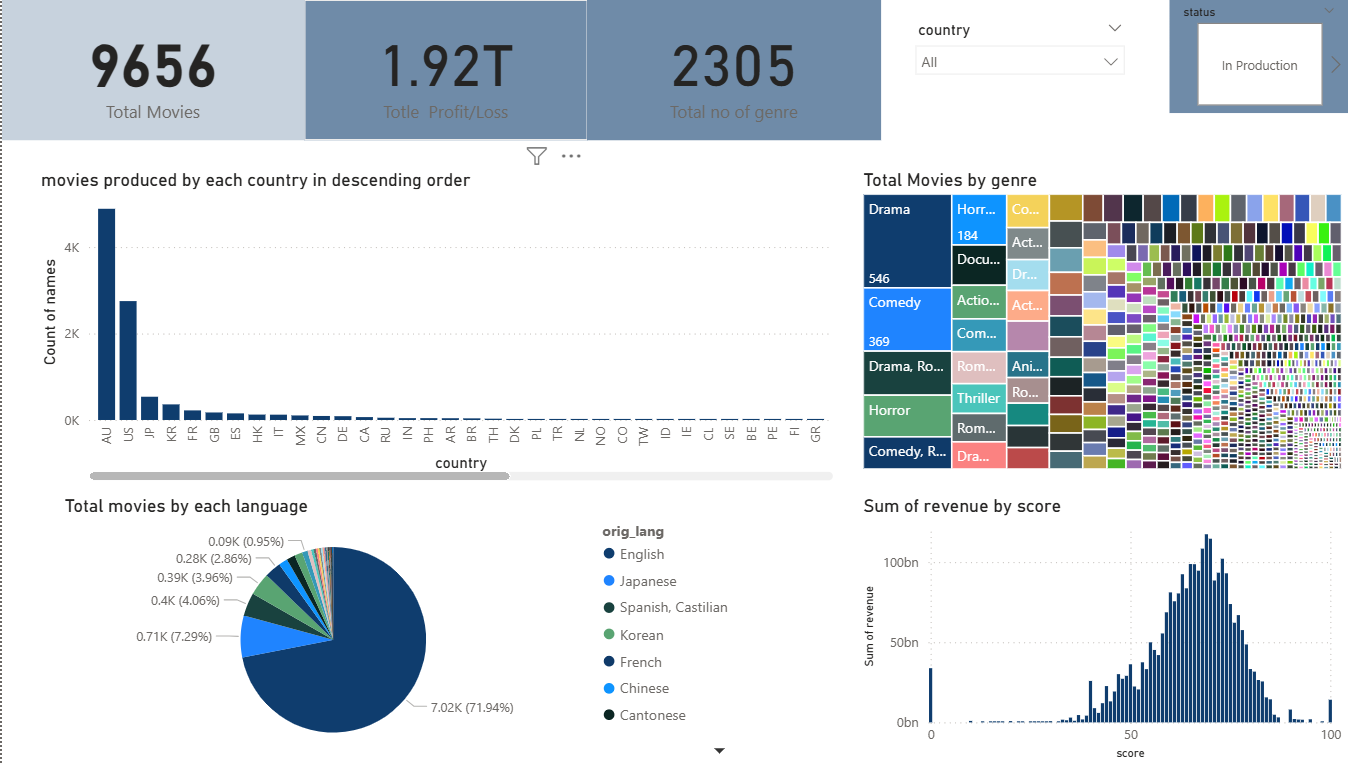

Layout of this report page (visuals, bound fields, positions):
{"tool":"powerbi","page":{"name":"Page 1","canvas":[1280,720],"ordinal":0},"visuals":[{"type":"card","fields":{"Values":["Count(IMDB.names)"]},"box":[0,0,284.6,132.3],"z":0},{"type":"card","fields":{"Values":["Sum(IMDB.Sum of Profit/Loss)"]},"box":[284.6,0,266.2,132.3],"z":1000},{"type":"card","fields":{"Values":["Count(IMDB.genre)"]},"box":[550.8,0,276.9,132.3],"z":2000},{"type":"columnChart","title":"movies produced by each country in descending order","fields":{"Category":["IMDB.country"],"Y":["CountNonNull(IMDB.names)"]},"box":[32.3,158.5,755.4,298.5],"z":3000},{"type":"treemap","title":"Total Movies by genre","fields":{"Group":["IMDB.genre"],"Values":["Count(IMDB.names)"]},"box":[806.2,158.5,460,287.7],"z":4000},{"type":"pieChart","title":"Total movies by each language","fields":{"Y":["Count(IMDB.names)"],"Category":["IMDB.orig_lang"]},"box":[53.8,466.2,733.8,253.8],"z":5000},{"type":"clusteredColumnChart","fields":{"Y":["Sum(IMDB.revenue)"],"Category":["IMDB.score"]},"box":[806,466,460,254],"z":6000},{"type":"slicer","fields":{"Values":["IMDB.country"]},"box":[849.2,13.8,216.9,103.1],"z":7000},{"type":"slicer","fields":{"Values":["IMDB.status"]},"box":[1098.5,0,167.7,106.2],"z":8000}]}

Visuals, with their boxes in screenshot pixels (x1, y1, x2, y2), scaled from the page's 1280x720 canvas onto the 1361x763 screenshot:
card - Count(IMDB.names): BBox(0, 0, 303, 140)
card - Sum(IMDB.Sum of Profit/Loss): BBox(303, 0, 586, 140)
card - Count(IMDB.genre): BBox(586, 0, 880, 140)
"movies produced by each country in descending order" columnChart: BBox(34, 168, 838, 484)
"Total Movies by genre" treemap: BBox(857, 168, 1346, 473)
"Total movies by each language" pieChart: BBox(57, 494, 837, 762)
clusteredColumnChart - Sum(IMDB.revenue) x IMDB.score: BBox(857, 494, 1346, 762)
slicer - IMDB.country: BBox(903, 15, 1134, 124)
slicer - IMDB.status: BBox(1168, 0, 1346, 113)
